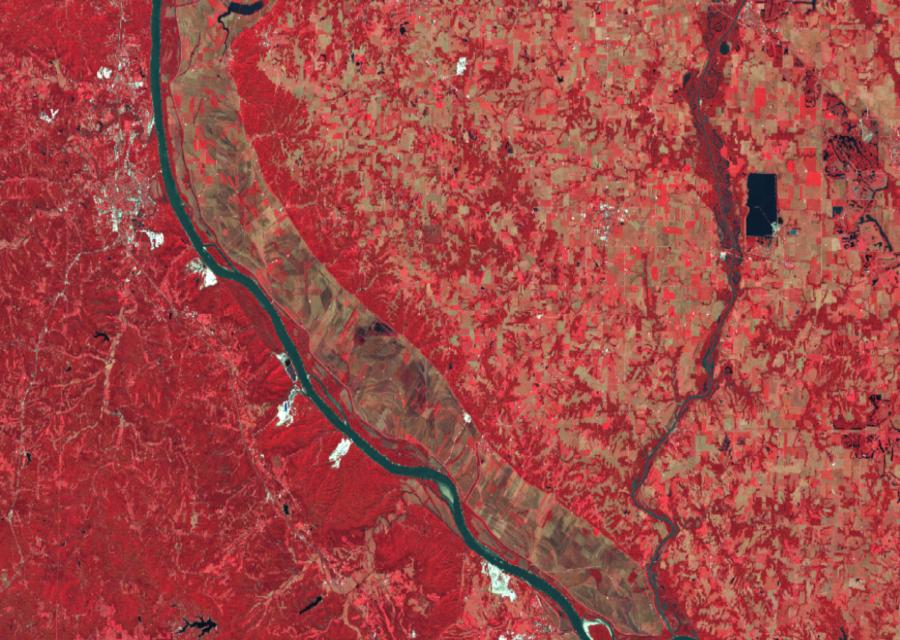Potential Lime Manufacturing Facility: (487, 563, 517, 602)
